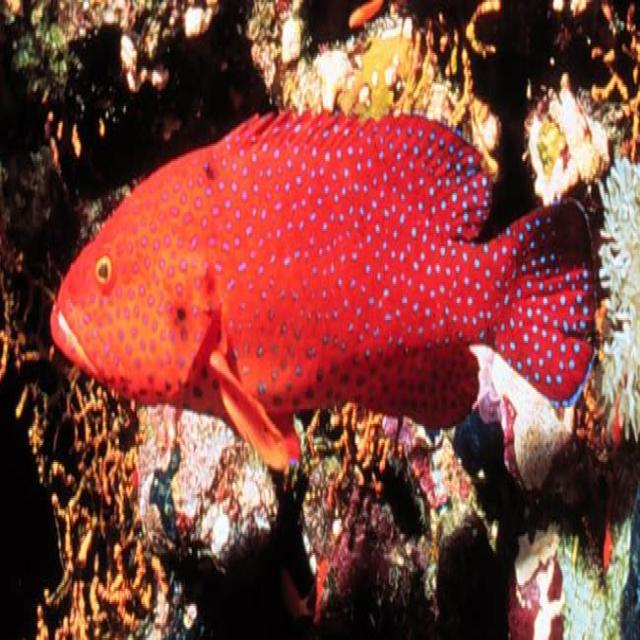ikan: (48, 102, 599, 476)
